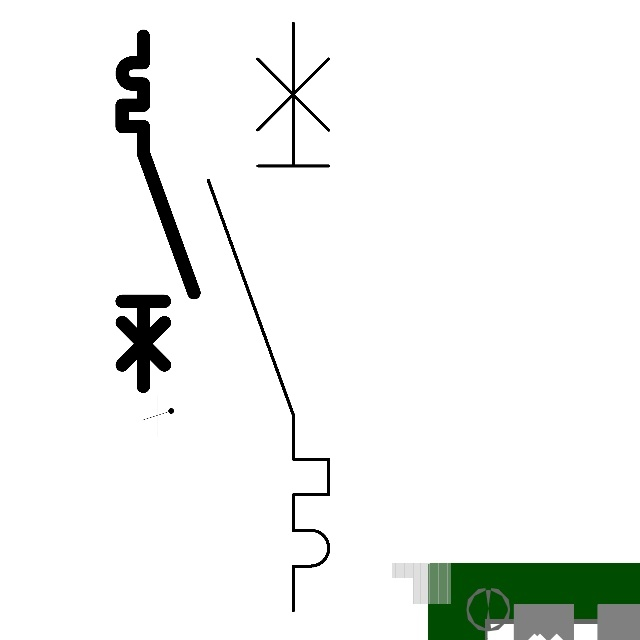interruptor_termomagnetico: (193, 8, 344, 626), (113, 27, 203, 395)
